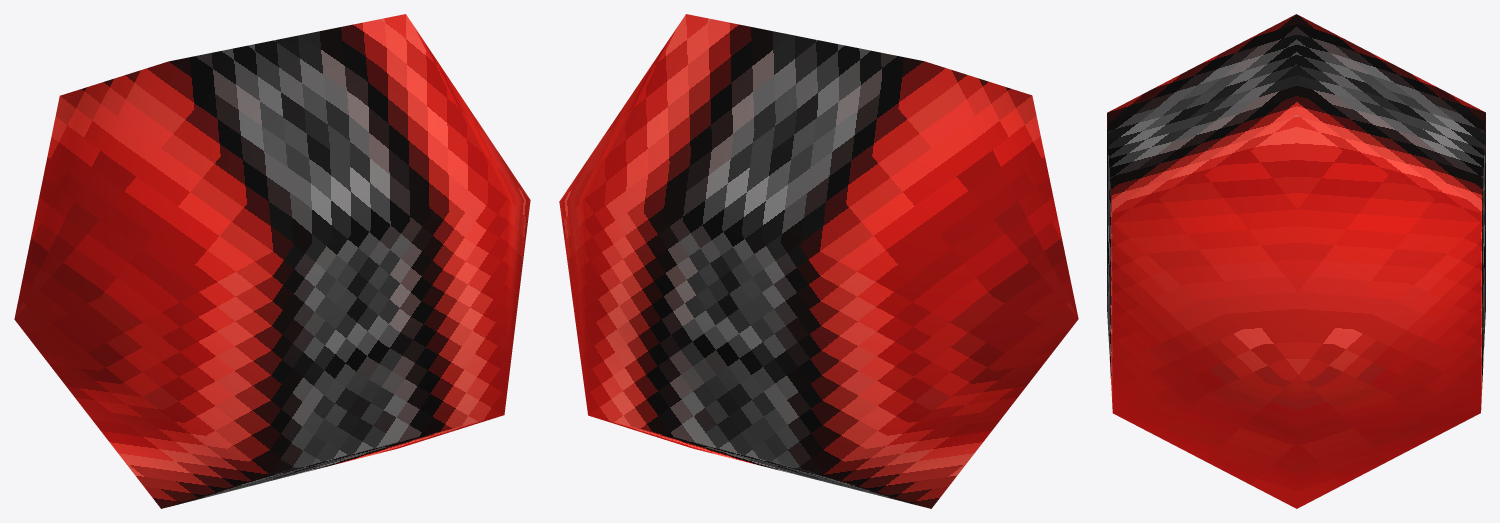
File: bomblet.glb
The picture shows the model from 3 angles, left to right: view 1: azimuth 30°, elevation 25°; view 2: azimuth 150°, elevation 25°; view 3: azimuth 270°, elevation 25°; orthographic projection. The views are drawn at different scales.
Visible parts, largest first — view 1: bomblet; view 2: bomblet; view 3: bomblet.
Part boxes in pixels (bbox=[...]): bomblet: bbox=[14, 14, 530, 508]; bomblet: bbox=[559, 14, 1078, 508]; bomblet: bbox=[1107, 14, 1485, 508].
Size of the model in its own units: 9.94 by 8.18 by 7.08.
1 material, 1 textured.
